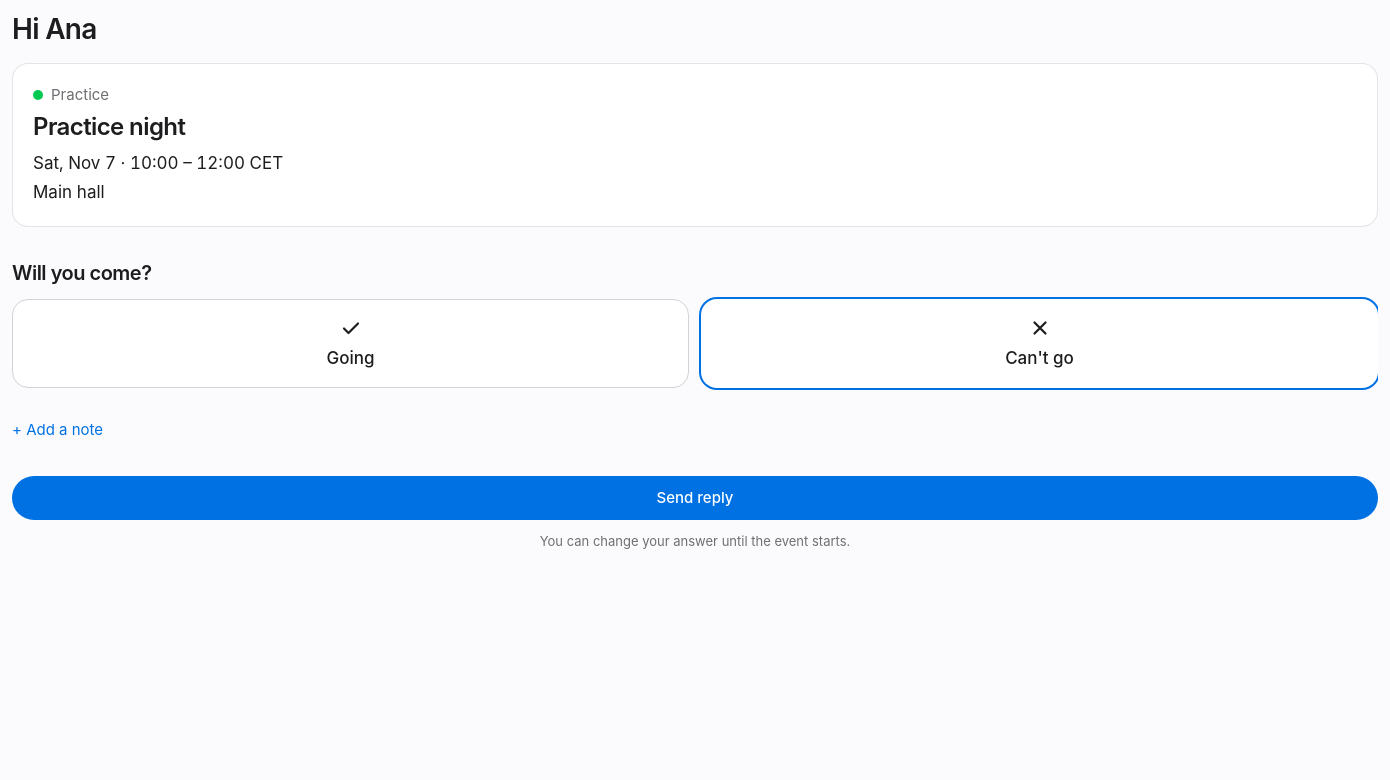
Test: MemberAttendanceView › after sending › confirms a Can't go reply calmly
This screenshot has width=1390, height=780.
Click the button "Send reply". click: point(695, 498)
box: [12, 476, 1378, 520]
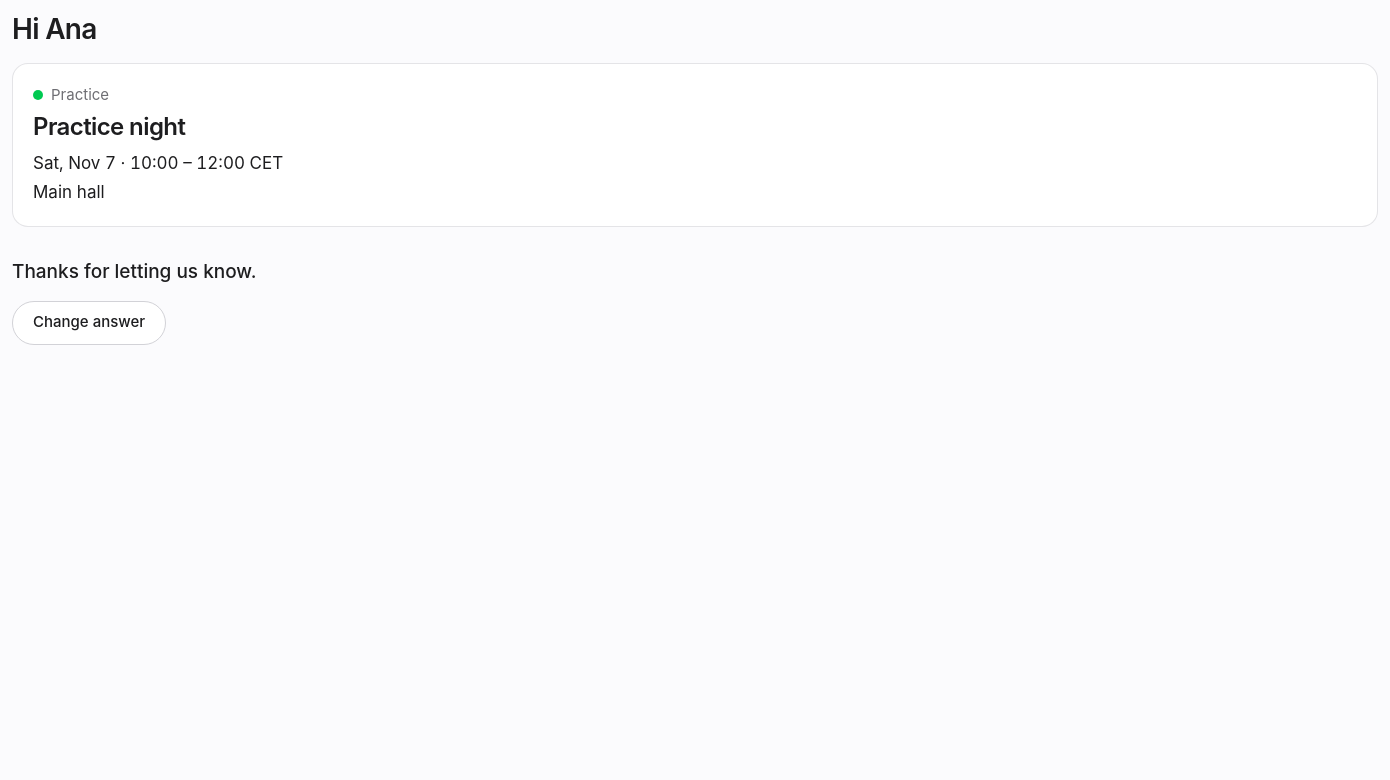
Expected: the message "Thanks for letting us know." is shown, [12, 260, 256, 282]
